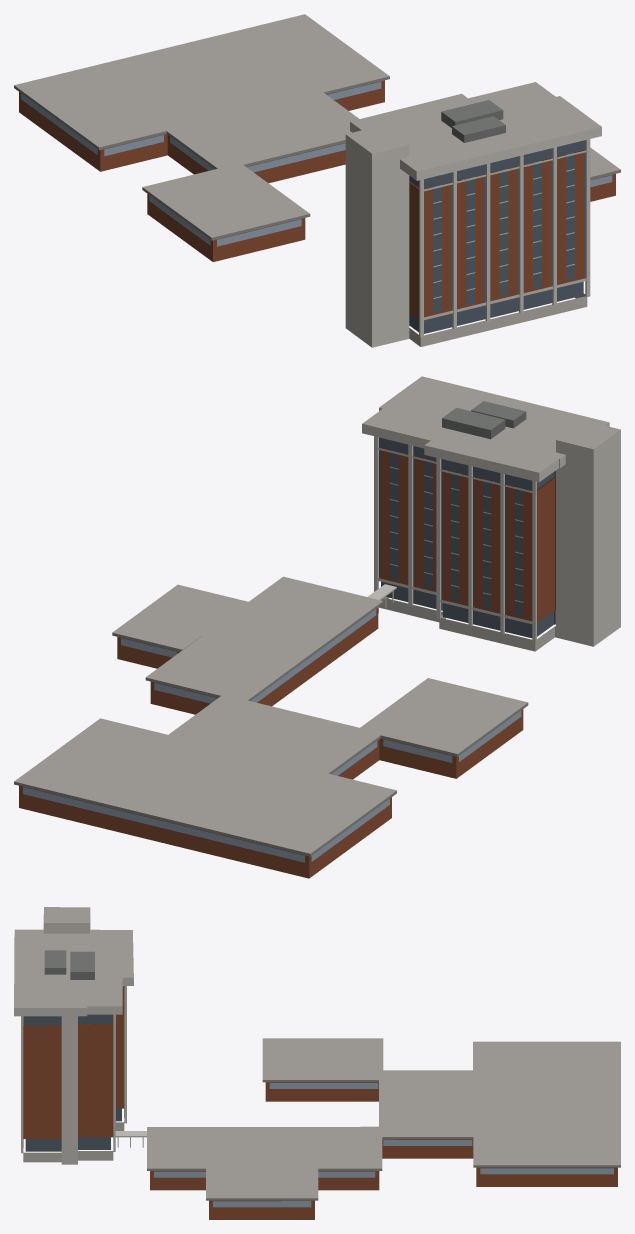
The model's file is highway-department-headquarters.glb.
3 views of the same model, one above another, from view 1: azimuth 30°, elevation 25°; view 2: azimuth 150°, elevation 25°; view 3: azimuth 270°, elevation 25° (orthographic). The views are drawn at different scales.
Parts seen in each view (by area): view 1: highway_department_headquarters; view 2: highway_department_headquarters; view 3: highway_department_headquarters.
Boxes of the visible parts, x1=… form: highway_department_headquarters: x1=14, y1=14, x2=620, y2=347; highway_department_headquarters: x1=14, y1=376, x2=620, y2=878; highway_department_headquarters: x1=14, y1=907, x2=620, y2=1219.
Bounding box in the file's own units: 96.97 × 47.7 × 155.
